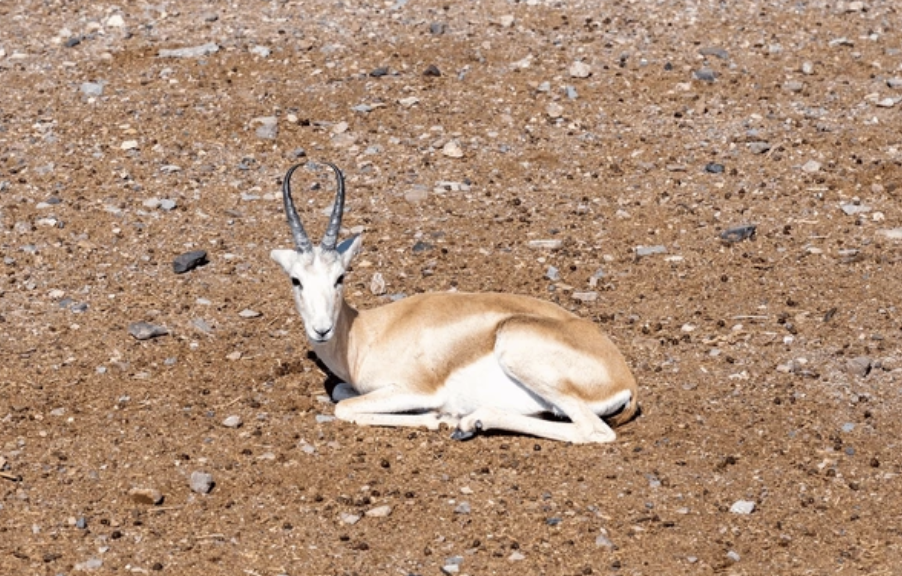saiga: (268, 155, 643, 455)
